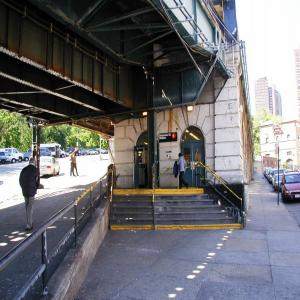Vehicle-registration-plate: (296, 196, 300, 198)
